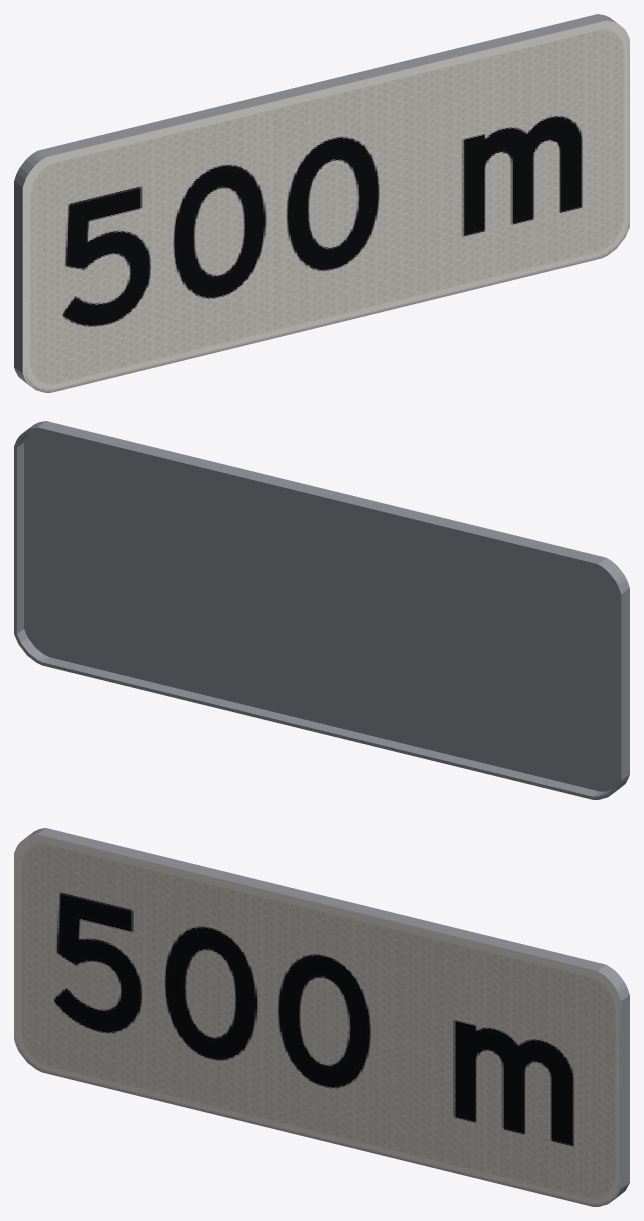
3 views of the same model, one above another, from view 1: azimuth 30°, elevation 25°; view 2: azimuth 150°, elevation 25°; view 3: azimuth 330°, elevation 25° (orthographic).
Parts seen in each view (by area): view 1: cat_0060f0c4d797dafe; view 2: cat_0060f0c4d797dafe; view 3: cat_0060f0c4d797dafe.
Part boxes in pixels (box(x1,y1,x2,y2)): cat_0060f0c4d797dafe: box(14, 14, 629, 392); cat_0060f0c4d797dafe: box(14, 421, 629, 799); cat_0060f0c4d797dafe: box(14, 828, 629, 1206).
Bounding box in the file's own units: 0.6 × 0.015 × 0.2237.
2 materials, 1 textured.
